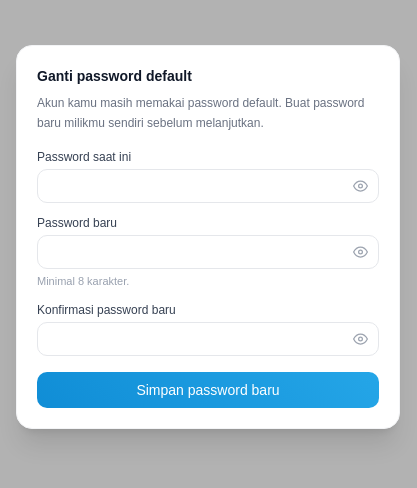
Scenario: ChangePasswordModal › menolak submit jika password baru sama dengan password saat ini
The width and height of the screenshot is (417, 488).
Step 1. Type "sama12345" into the password field with id "change-pw-current" → (208, 186), box left=37, top=169, right=379, bottom=203
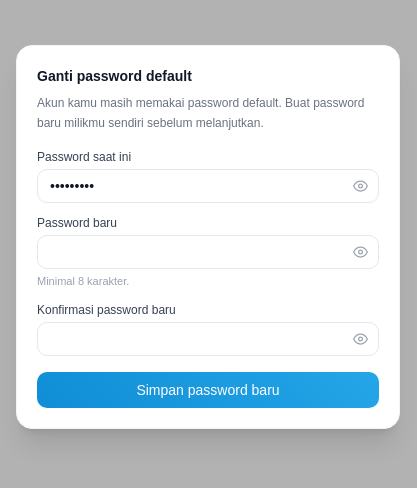
Step 2. Type "sama12345" into the password field with id "change-pw-new" → (208, 252), box left=37, top=235, right=379, bottom=269
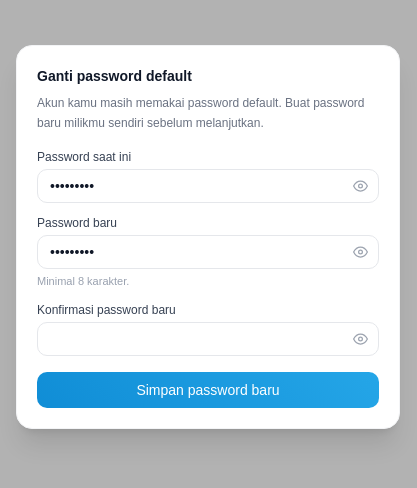
Step 3. Type "sama12345" into the password field with id "change-pw-confirm" → (208, 339), box left=37, top=322, right=379, bottom=356
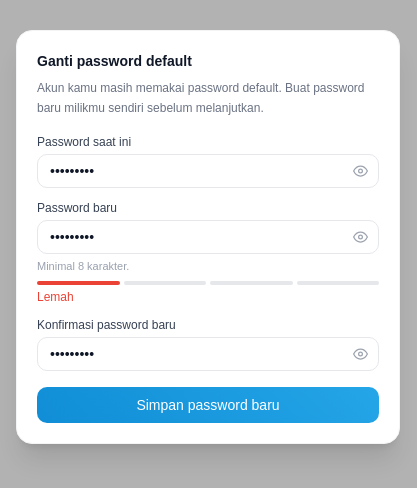
Step 4. Submit the form, box left=37, top=134, right=379, bottom=423
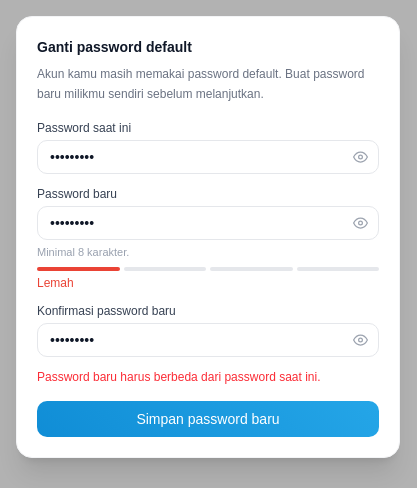
Check: the text "Password baru harus berbeda dari password saat ini." is shown, box left=37, top=370, right=320, bottom=384
